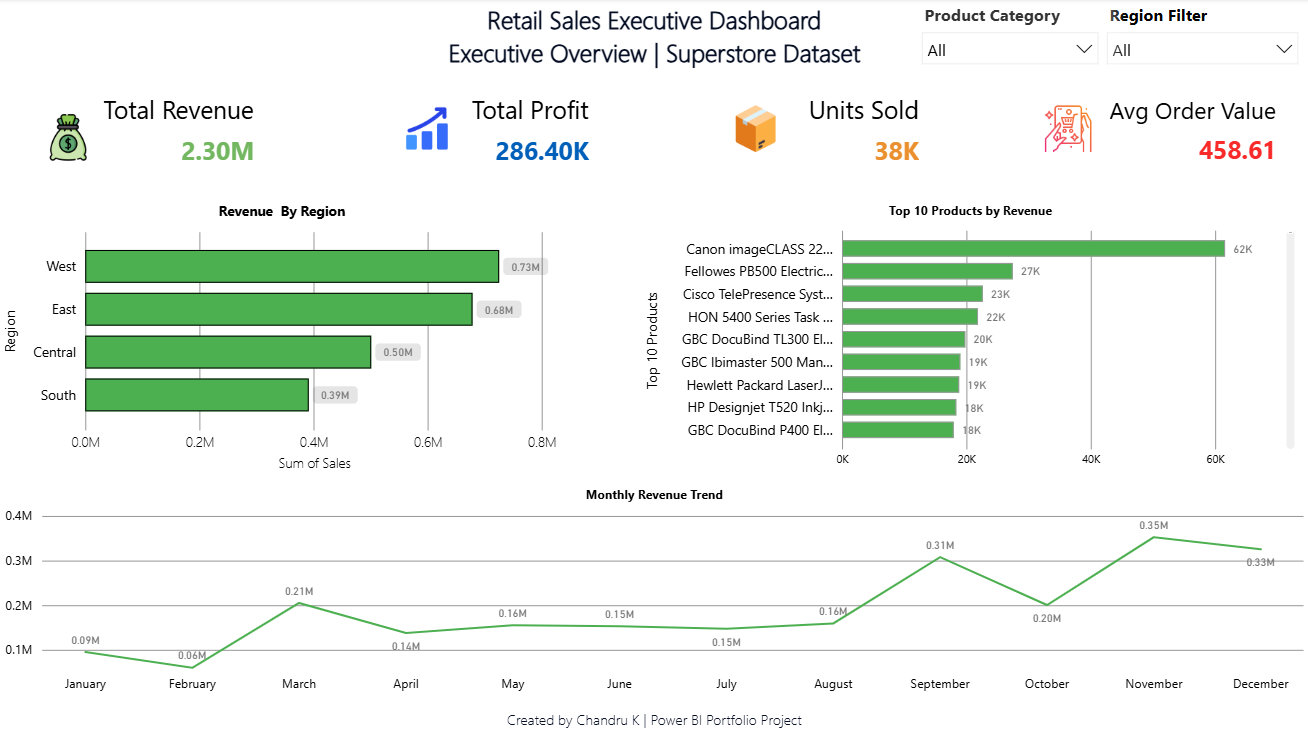

The page's visual inventory and layout, read from the dashboard file:
{"tool":"powerbi","page":{"name":"Page 1","canvas":[1280,720],"ordinal":0},"visuals":[{"type":"cardVisual","fields":{"Data":["Sum(FactSales.Quantity)"]},"box":[656.7,73.4,260.5,110.1],"z":0},{"type":"clusteredBarChart","title":"Revenue  By Region","fields":{"Category":["DimLocation.Region"],"Y":["Sum(FactSales.Sales)"]},"box":[0,199.3,551.5,269],"z":1000},{"type":"lineChart","title":"Monthly Revenue Trend ","fields":{"Category":["FactSales.Order_Date.Variation.Date Hierarchy.Month"],"Y":["Sum(FactSales.Sales)"]},"box":[0,476.9,1280.3,212.8],"z":2000},{"type":"textbox","box":[0,0,1280.3,112.5],"z":3000},{"type":"cardVisual","fields":{"Data":["Sum(FactSales.Sales)"]},"box":[6.1,73.4,260.5,110],"z":4000},{"type":"image","box":[39.1,106.4,55,60],"z":5000},{"type":"cardVisual","fields":{"Data":["Sum(FactSales.Profit)"]},"box":[333.8,73.4,260,110],"z":6000},{"type":"image","box":[390.1,97.8,55,60],"z":7000},{"type":"image","box":[711.7,97.8,55,60],"z":8000},{"type":"slicer","fields":{"Values":["DimLocation.Region"]},"box":[1072.4,0,207.9,73.4],"z":9000},{"type":"slicer","fields":{"Values":["DimProduct.Category"]},"box":[891.4,0,193.2,73.4],"z":10000},{"type":"textbox","box":[0,690.9,1280.3,29.3],"z":11000},{"type":"cardVisual","fields":{"Data":["DimCustomer.Average Order Value"]},"box":[1006.4,73.4,259.2,110.1],"z":12000},{"type":"image","box":[1017.4,97.8,55,59.9],"z":13000},{"type":"clusteredBarChart","title":" Top 10 Products by Revenue","fields":{"Category":["DimProduct.Product_Name"],"Y":["Sum(FactSales.Sales)"]},"box":[627.3,199.3,644.4,269],"z":14000}]}

Visuals, with their boxes in screenshot pixels (x1, y1, x2, y2), scaled from the page's 1280x720 canvas onto the 1308x730 screenshot:
cardVisual - Sum(FactSales.Quantity): BBox(671, 74, 937, 186)
"Revenue  By Region" clusteredBarChart: BBox(0, 202, 564, 475)
"Monthly Revenue Trend " lineChart: BBox(0, 484, 1307, 699)
textbox: BBox(0, 0, 1307, 114)
cardVisual - Sum(FactSales.Sales): BBox(6, 74, 272, 186)
image: BBox(40, 108, 96, 169)
cardVisual - Sum(FactSales.Profit): BBox(341, 74, 607, 186)
image: BBox(399, 99, 455, 160)
image: BBox(727, 99, 783, 160)
slicer - DimLocation.Region: BBox(1096, 0, 1307, 74)
slicer - DimProduct.Category: BBox(911, 0, 1108, 74)
textbox: BBox(0, 700, 1307, 729)
cardVisual - DimCustomer.Average Order Value: BBox(1028, 74, 1293, 186)
image: BBox(1040, 99, 1096, 160)
" Top 10 Products by Revenue" clusteredBarChart: BBox(641, 202, 1300, 475)
